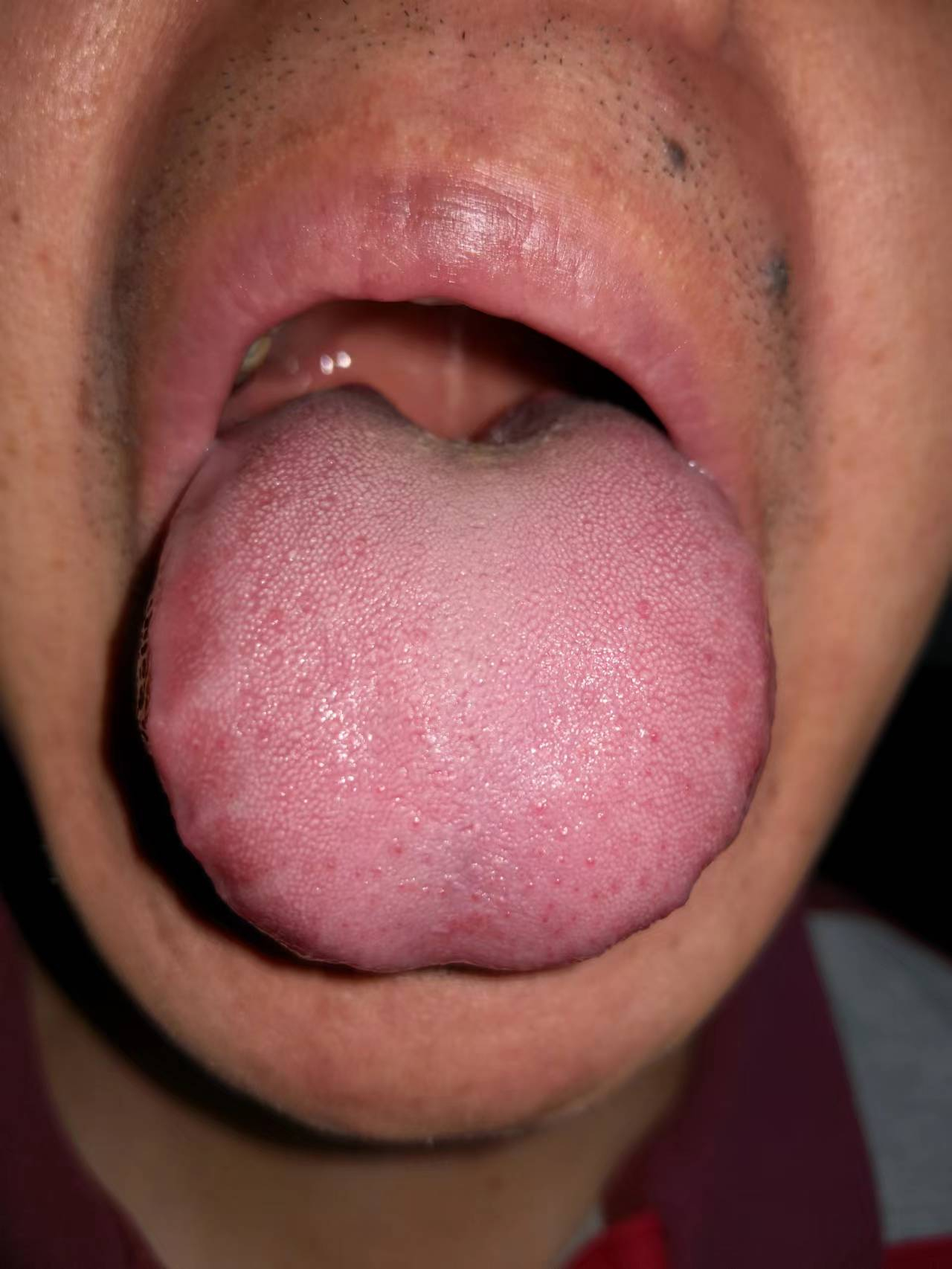baitaishe: (141, 382, 777, 974)
chihenshe: (144, 720, 249, 847), (141, 594, 231, 730)
hongdianshe: (385, 835, 410, 860), (643, 722, 663, 749)
hongshe: (140, 380, 776, 973)
shenquao: (332, 382, 594, 463)
